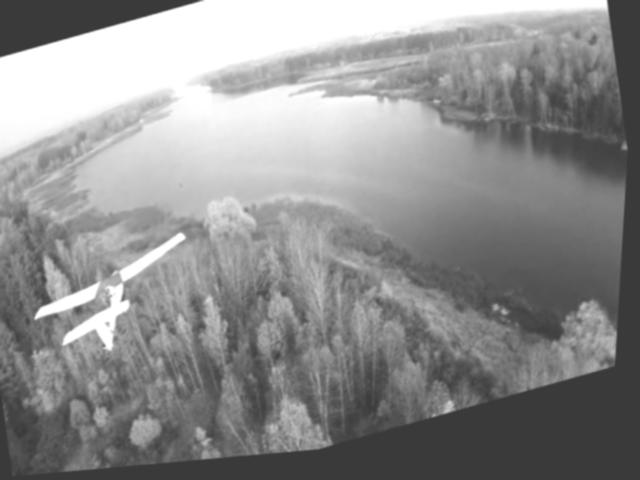hedef: (9, 218, 220, 372)
